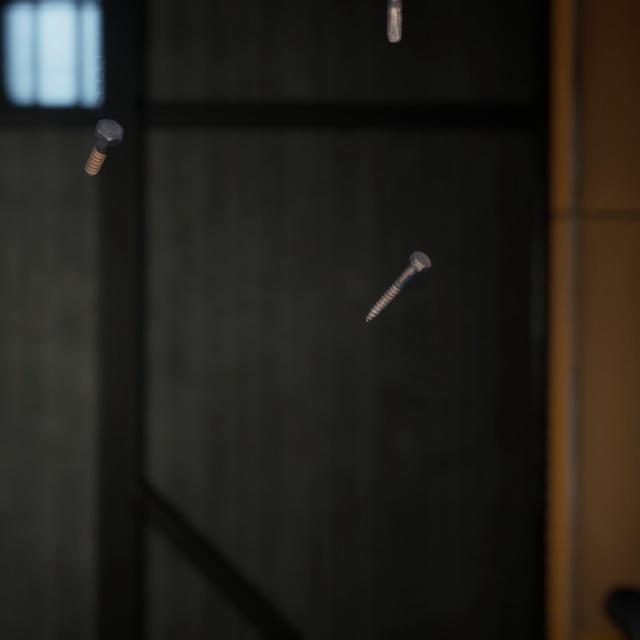bolt: (361, 230, 435, 310), (80, 101, 128, 167)
